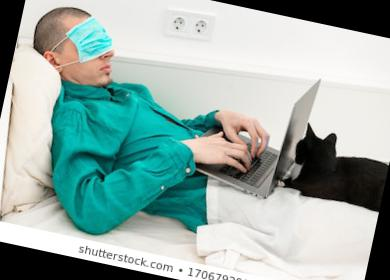mask_weared_incorrect: (52, 8, 124, 87)
